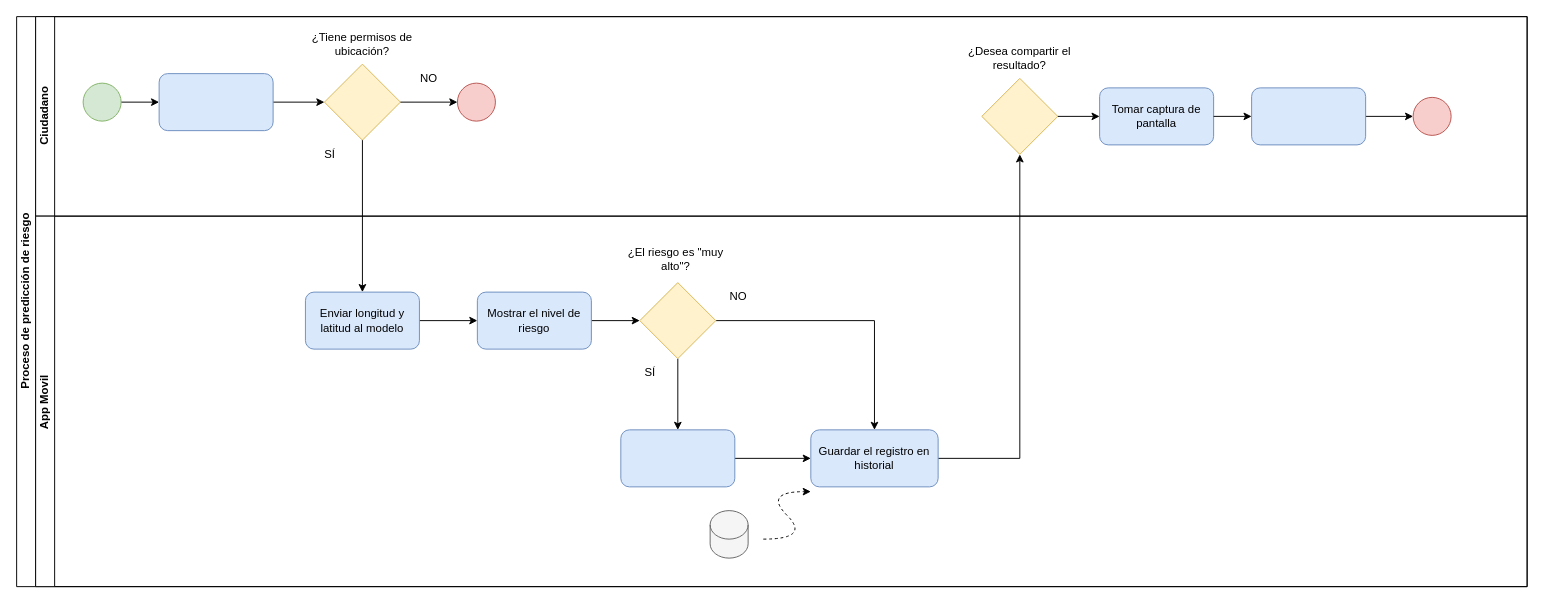
This 1544x603 diagram has some shape labels left out. Here are the shapes that lost their labels. From the top down, the centre of each, then its label:
At [215,102]: "Ingresar a la aplicación".
At [1308,116]: "Compartir captura".
At [677,458]: "Hacer sonar una alerta".
